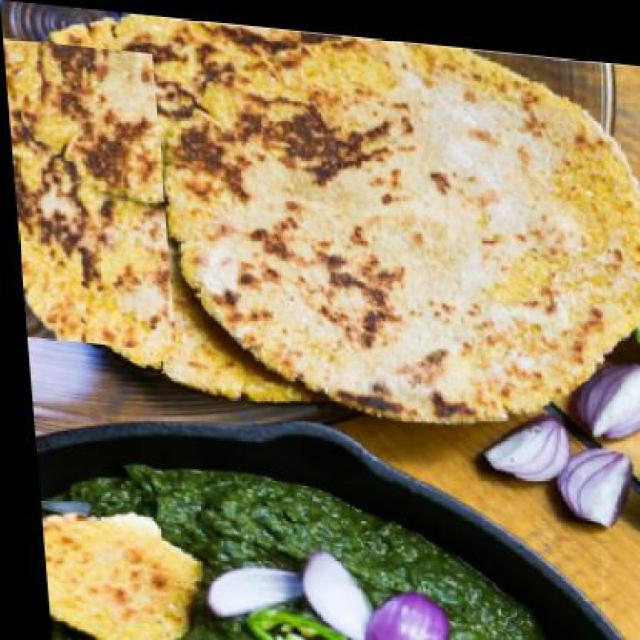chapati: (150, 11, 638, 435), (2, 18, 344, 384)
